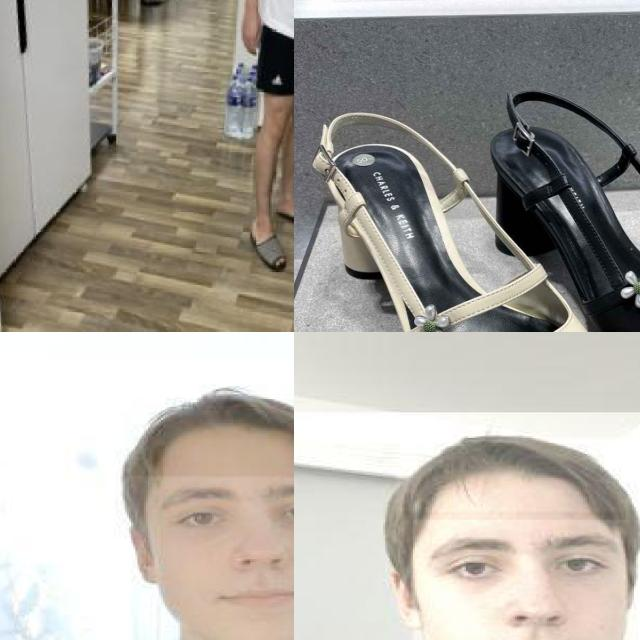No_Ear-Protection: (110, 517, 168, 592), (379, 566, 429, 630)
No_Glasses: (415, 523, 626, 596), (129, 471, 294, 549)
Sandals: (294, 88, 640, 332), (483, 70, 640, 332), (239, 206, 293, 285), (268, 197, 294, 246)
face_nomask: (412, 519, 625, 640), (148, 477, 294, 640)
head_nohelmet: (396, 438, 630, 512), (120, 400, 294, 475)
person: (0, 360, 294, 640), (294, 412, 640, 640)
